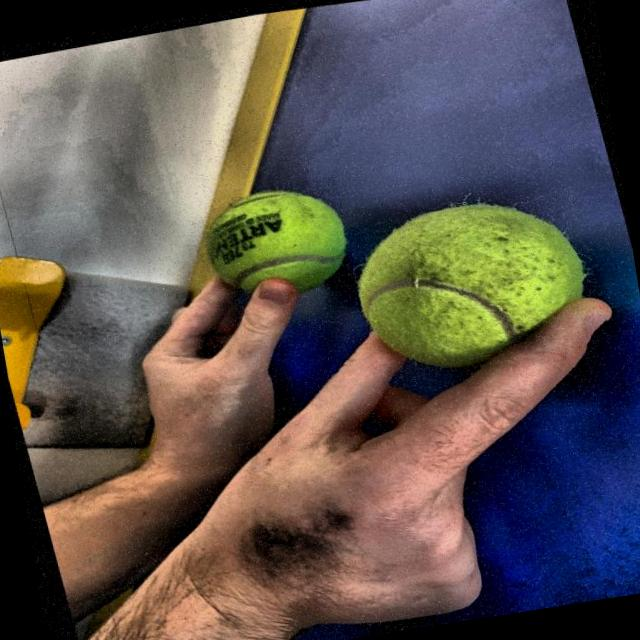tennis-ball: (339, 175, 615, 391), (182, 168, 364, 313)
